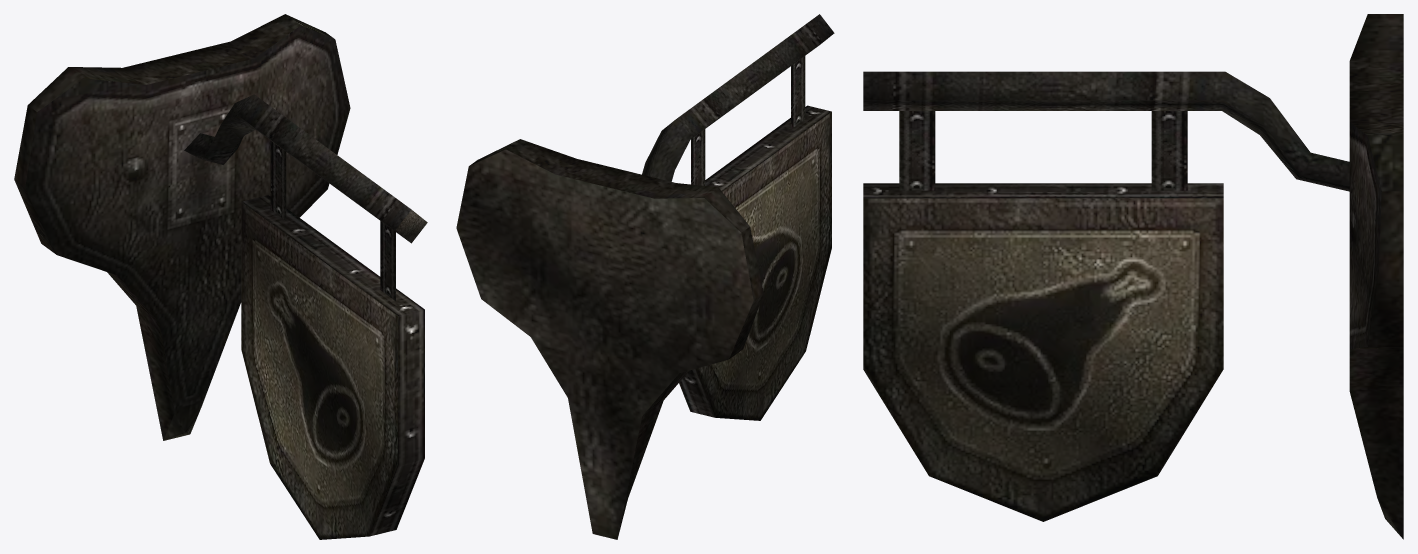
The model's file is KM_SIGN_08.glb.
3 views of the same model, side by side, from view 1: azimuth 30°, elevation 25°; view 2: azimuth 150°, elevation 25°; view 3: azimuth 270°, elevation 25° (orthographic). The views are drawn at different scales.
Parts seen in each view (by area): view 1: Mesh; view 2: Mesh; view 3: Mesh.
Part boxes in pixels (x1,y1,x2,y2): Mesh: (14, 14, 427, 539); Mesh: (456, 14, 834, 539); Mesh: (863, 14, 1403, 539).
Bounding box in the file's own units: 0.96 × 1.13 × 1.2.
1 material, 1 textured.
